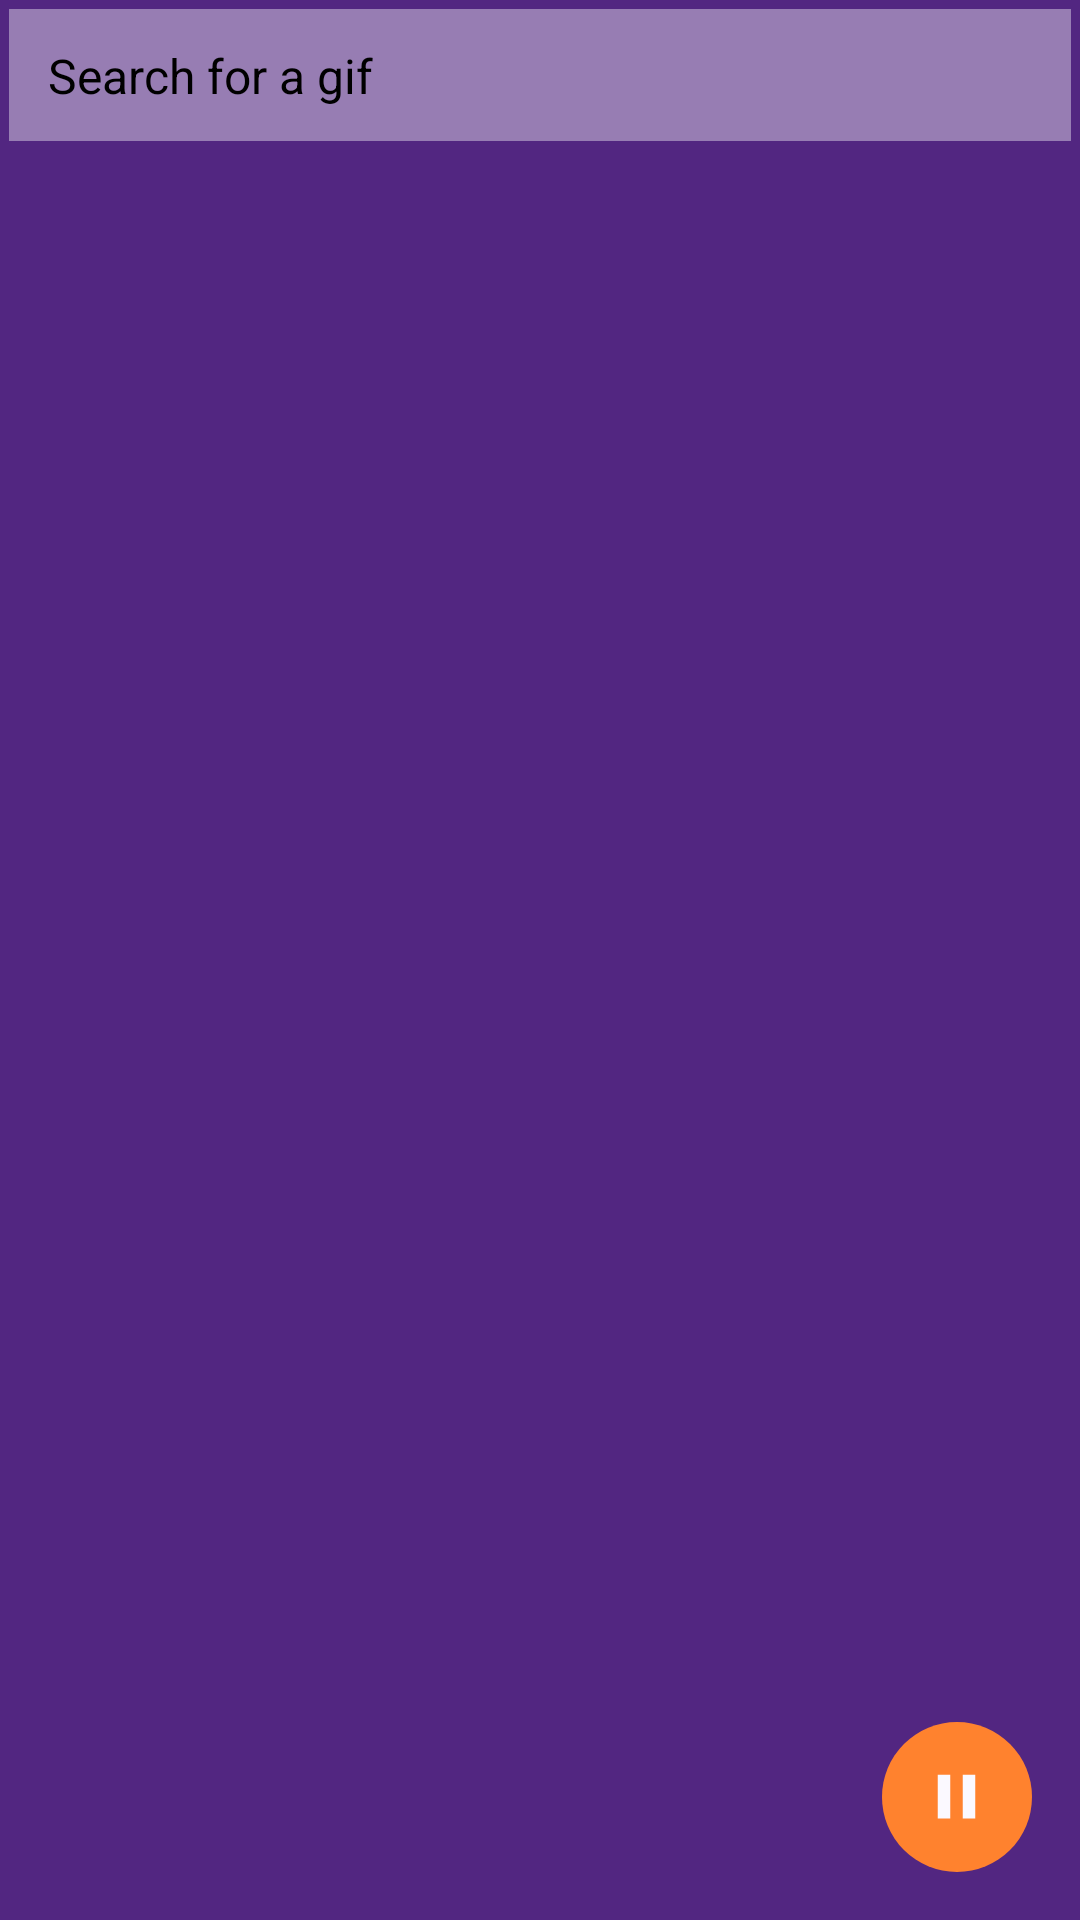

Screen size 1080×1920. Icon name, then its center in pixels as point (x, y):
pause: point (956, 1796)
